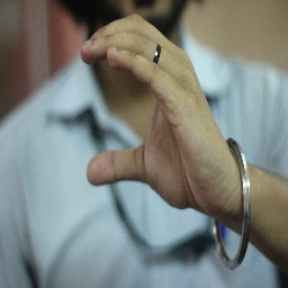C: (77, 12, 216, 200)
